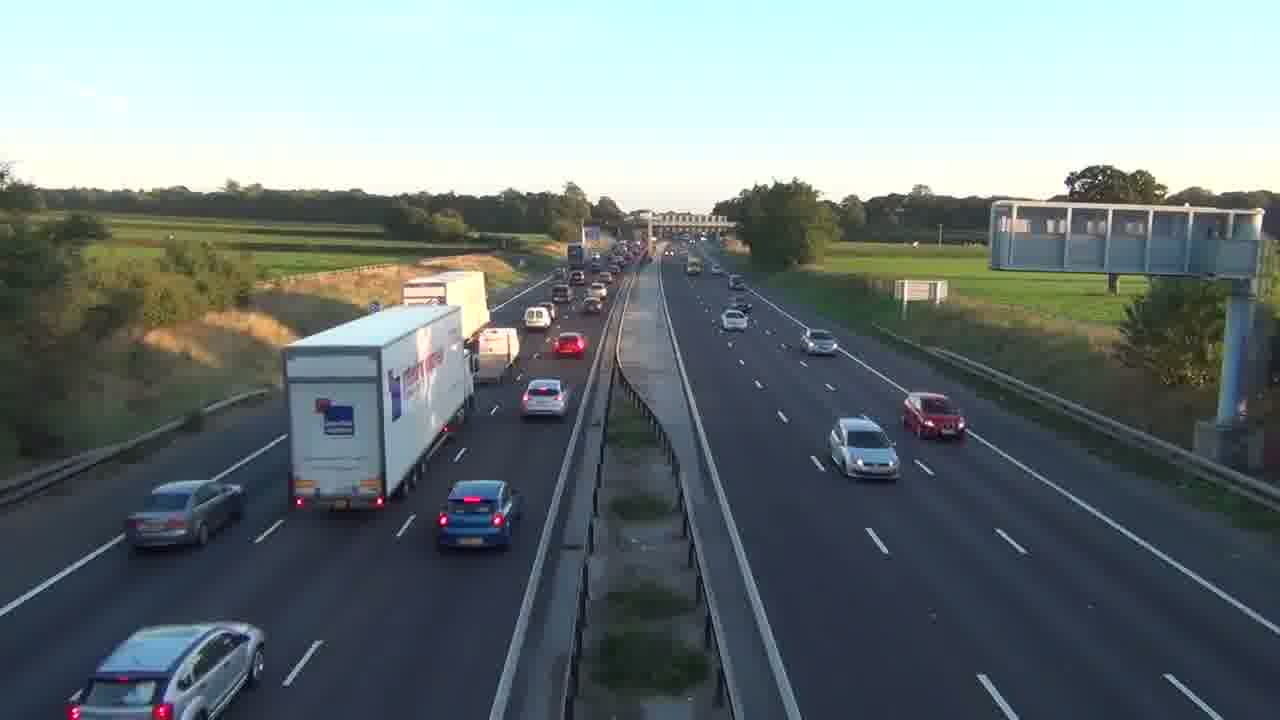car: (65, 620, 266, 719), (124, 478, 244, 552), (435, 479, 525, 551), (827, 415, 901, 482), (901, 392, 966, 441), (520, 378, 568, 419), (802, 329, 838, 356), (551, 332, 587, 358)
truck: (283, 302, 476, 515)
